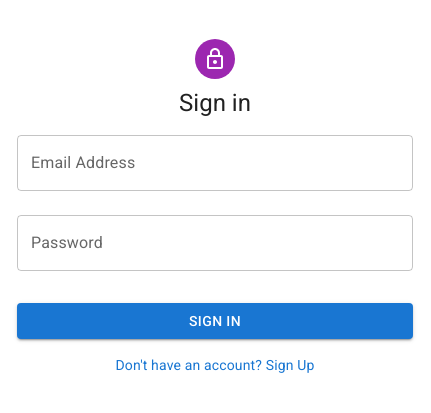
<Signin /> › validates required and malformed fields
Step 1. Click the button "Sign In" → (215, 321), box x1=17 y1=303 x2=413 y2=339
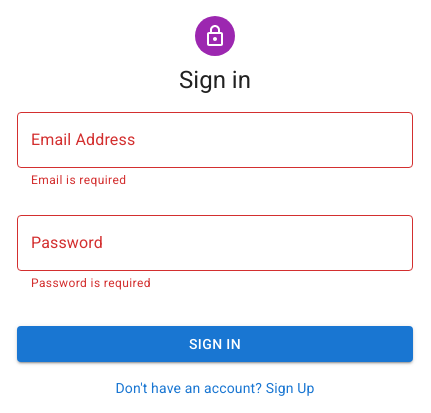
Result: the text "Email is required" is shown at x1=31 y1=173 x2=126 y2=187
Result: the text "Password is required" is shown at x1=31 y1=276 x2=151 y2=290
Step 2. Type "email" into the field labelled "Email Address" → (215, 140), box x1=17 y1=112 x2=413 y2=168
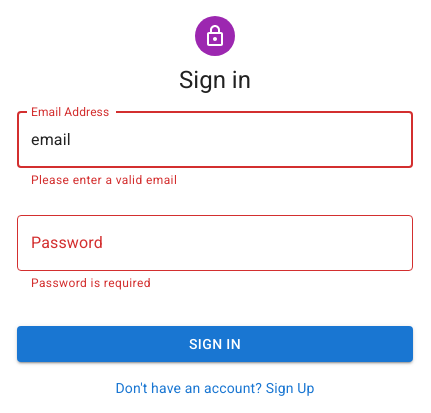
Result: the text "Please enter a valid email" is shown at x1=31 y1=173 x2=177 y2=187
